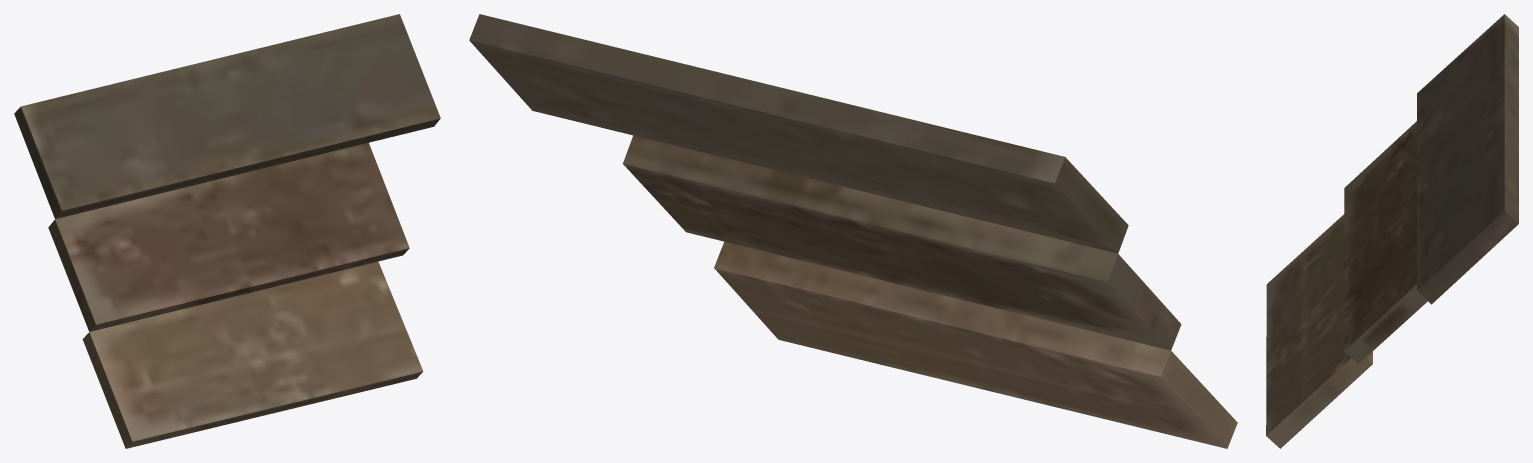
Rendered from roof.frontier.top.line.end.right.glb.
3 renders of one model, left to right at view 1: azimuth 30°, elevation 25°; view 2: azimuth 150°, elevation 25°; view 3: azimuth 270°, elevation 25°, orthographic. The views are drawn at different scales.
Parts seen in each view (by area): view 1: model; view 2: model; view 3: model.
Boxes of the visible parts, box(x1,y1,x2,y2) form: model: box(14, 14, 440, 448); model: box(469, 14, 1237, 448); model: box(1266, 14, 1518, 448).
Size of the model in its own units: 0.8083 by 0.5426 by 0.438.
Materials: 1 (1 with a texture image).
